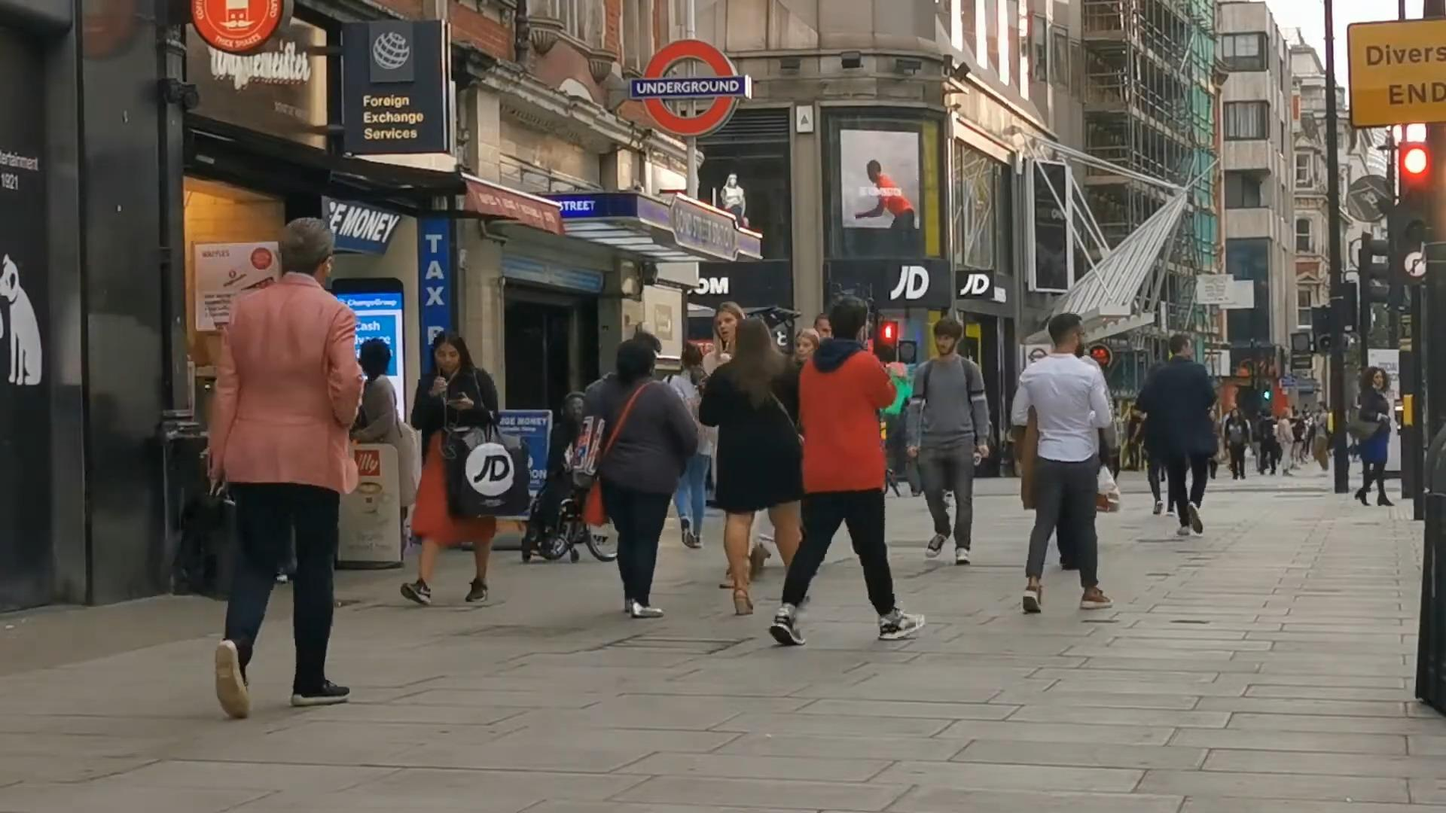no-helmet: (279, 217, 335, 287), (732, 317, 787, 362), (617, 338, 656, 390), (828, 296, 869, 345), (431, 330, 473, 373), (1048, 313, 1087, 359), (713, 301, 746, 345), (933, 319, 962, 358), (795, 329, 819, 364), (1359, 367, 1387, 390), (1170, 334, 1192, 359)
